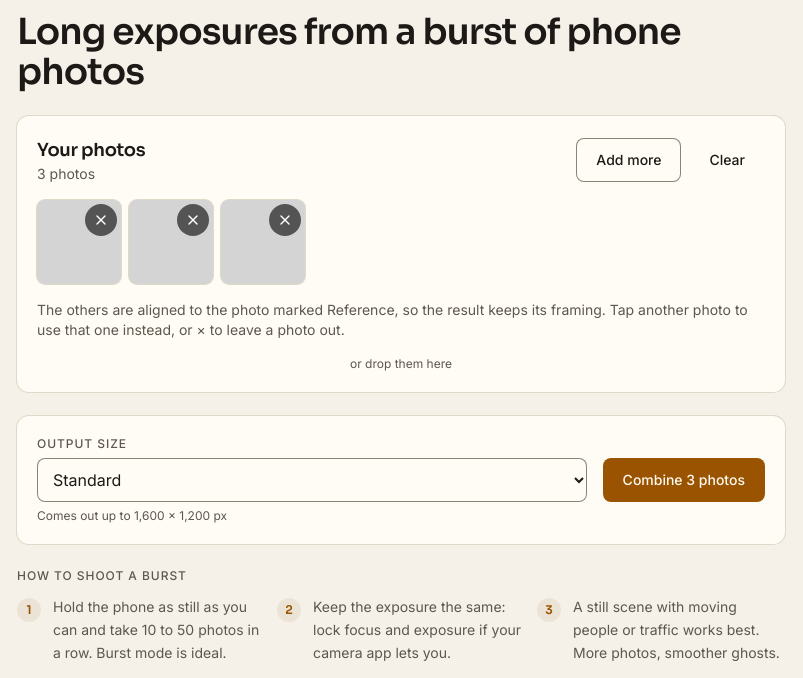
PhotoPicker, result size › shows the size the chosen quality comes out at, and follows the choice
The image size is (803, 678).
Expected: the text with test id "result-size" reads "Comes out up to 1,600 × 1,200 px", [37,508,227,523]
Expected: the text with test id "result-size" does not show "Smaller than the size chosen", [37,508,227,523]
Step 1. Select "Small, fast" in the dropdown with test id "quality-select" → (312, 480), box [37,458,587,502]
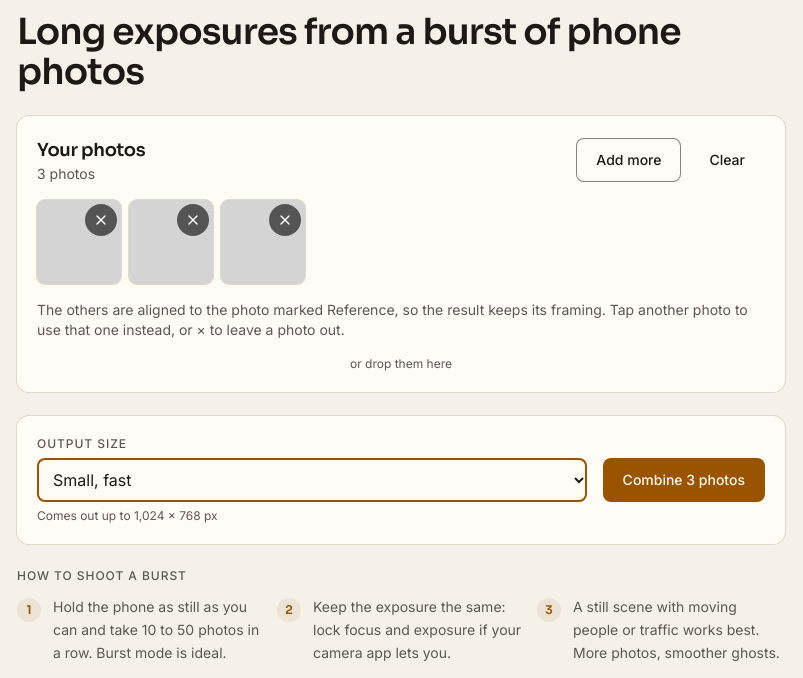
Expected: the text with test id "result-size" reads "Comes out up to 1,024 × 768 px", [37,508,218,523]
